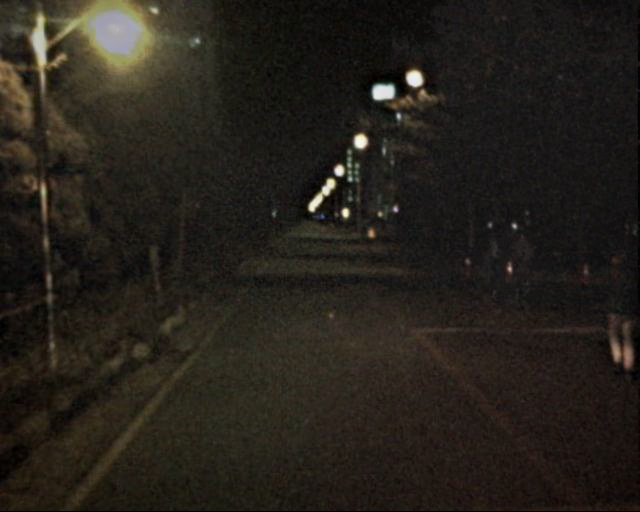person: (588, 239, 640, 375), (501, 224, 542, 318), (478, 237, 515, 318)
